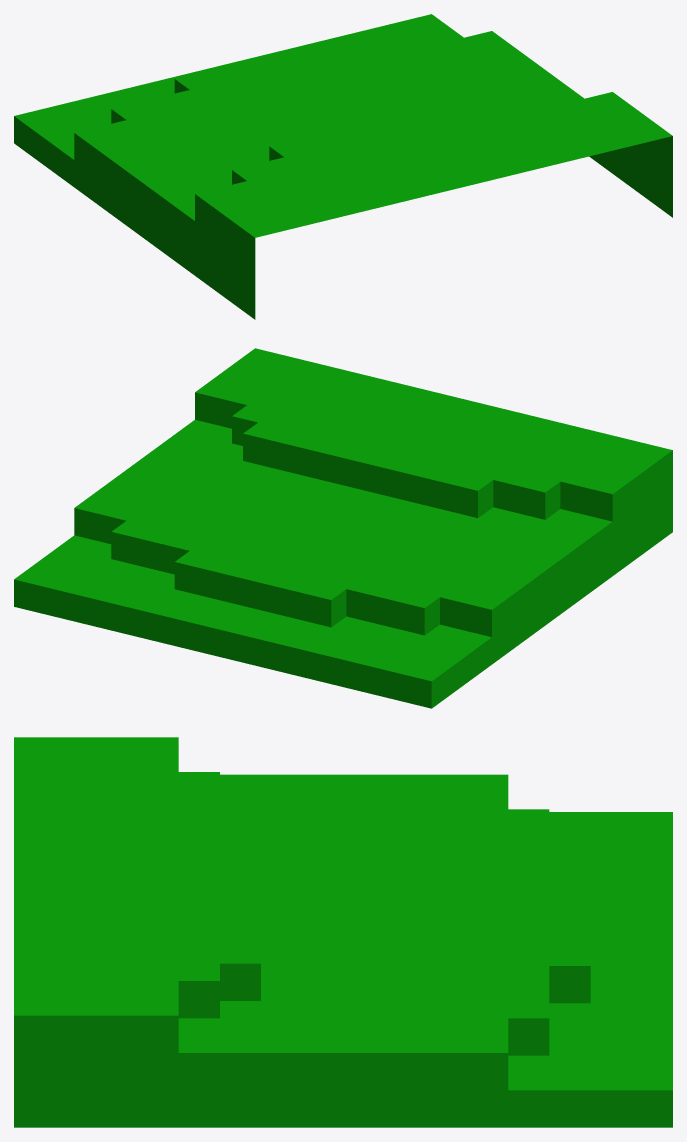
The model's file is Straight18.fbx.
The picture shows the model from 3 angles, top to bottom: view 1: azimuth 30°, elevation 25°; view 2: azimuth 150°, elevation 25°; view 3: azimuth 270°, elevation 25°; orthographic projection. The views are drawn at different scales.
Parts seen in each view (by area): view 1: Matrix; view 2: Matrix; view 3: Matrix.
Boxes of the visible parts, x1,y1,x2,y2 form: Matrix: (14,14,672,319); Matrix: (14,348,672,708); Matrix: (14,737,672,1127).
Bounding box in the file's own units: 16 × 3 × 16.
Materials: 1 (1 with a texture image).
